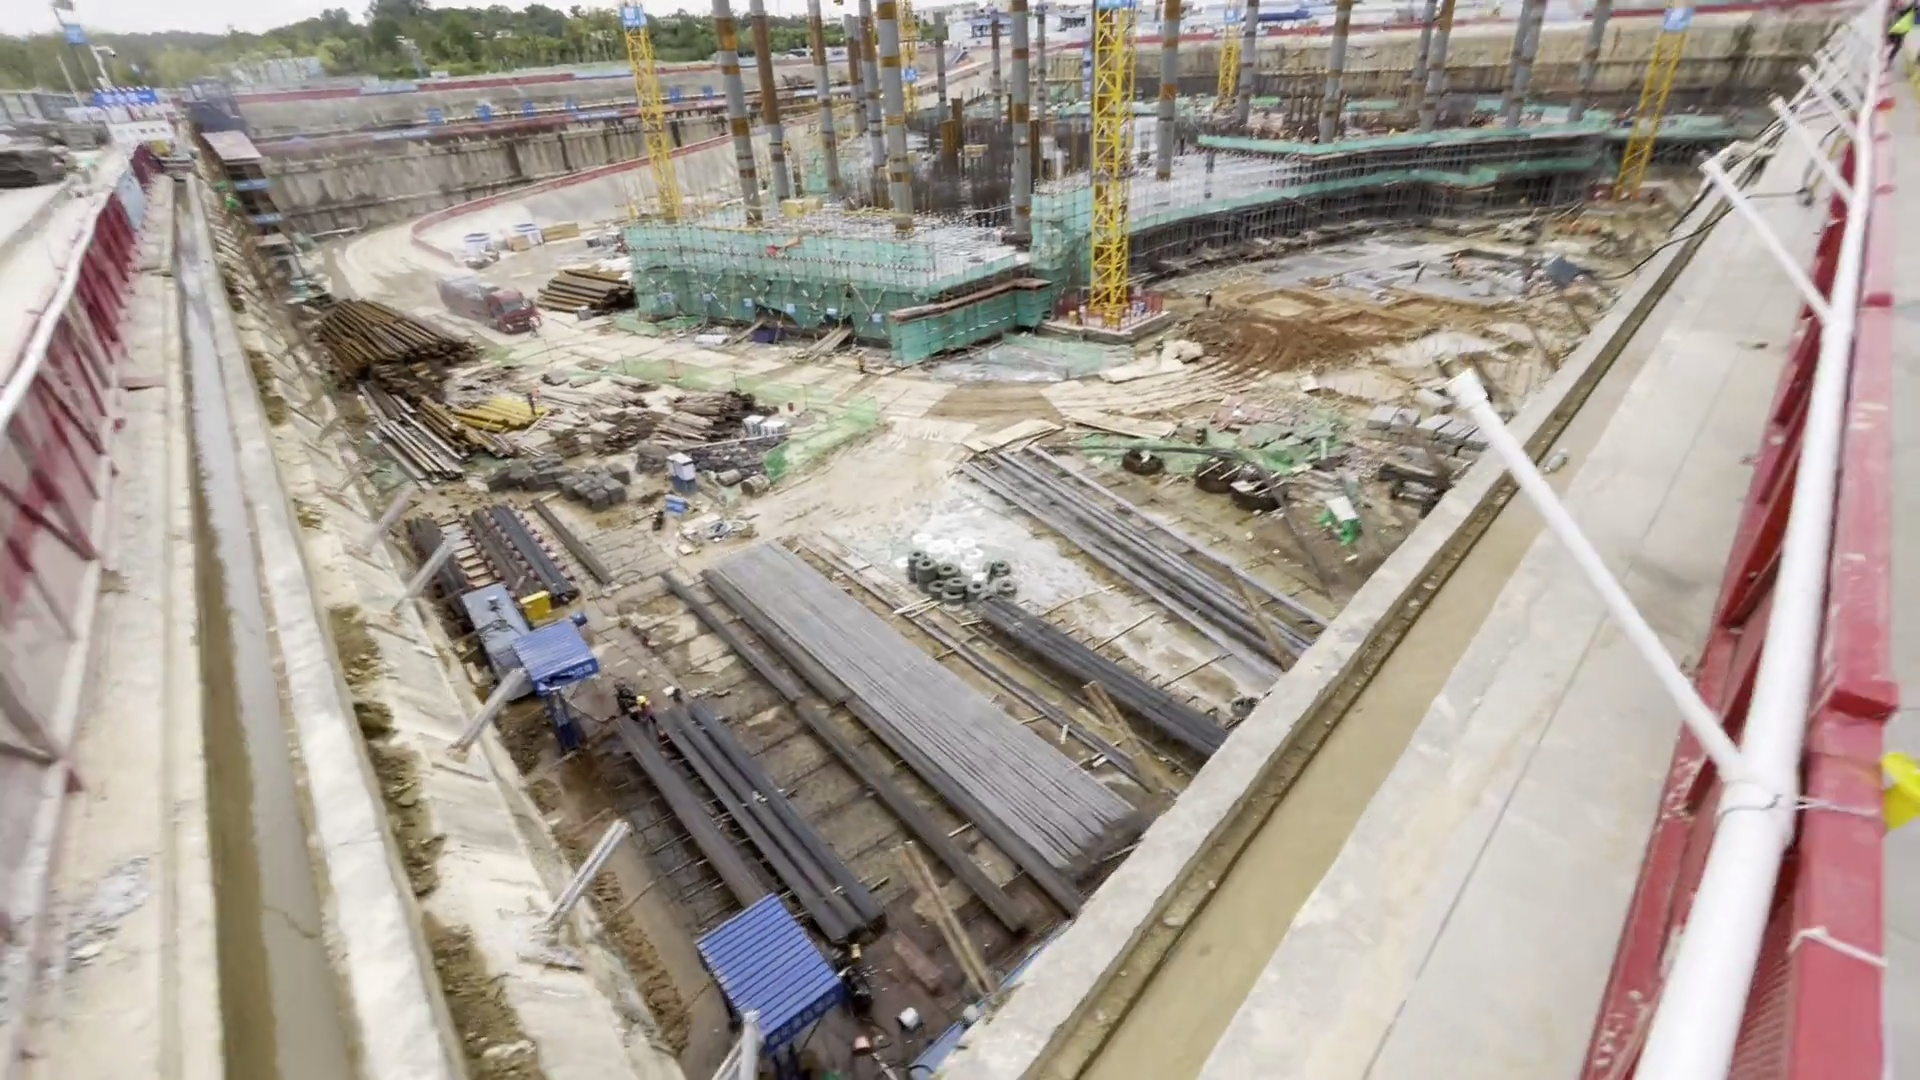brick: (1375, 408, 1491, 471), (741, 416, 787, 448)
ebox: (520, 593, 561, 628), (1099, 306, 1122, 331)
fence: (1677, 131, 1901, 1077)
helmet: (635, 694, 646, 703)
hopper: (752, 326, 786, 344)
person: (634, 694, 658, 735), (856, 350, 869, 378)
rebar: (812, 728, 1001, 912), (661, 773, 865, 931), (1006, 623, 1157, 719), (478, 506, 556, 603)
slogan: (410, 99, 582, 127), (545, 657, 601, 689), (99, 89, 162, 112)
vest: (639, 704, 656, 718)
wood: (608, 388, 737, 440)
